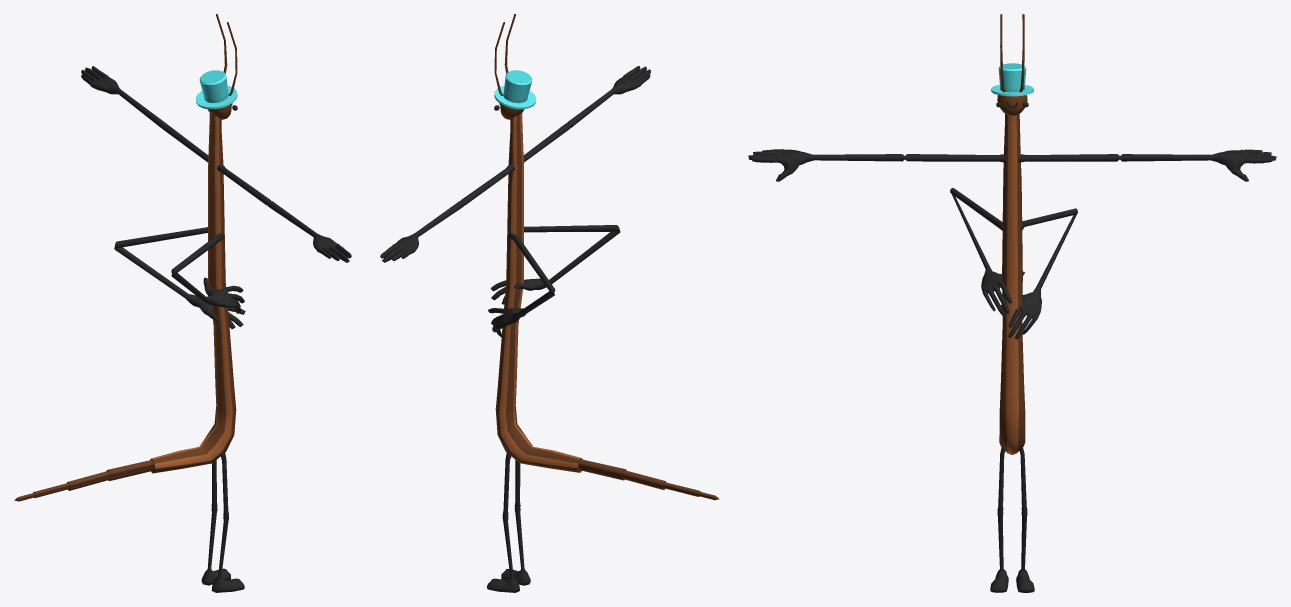
The model's file is Sr_Stickbug.glb.
3 renders of one model, left to right at view 1: azimuth 30°, elevation 25°; view 2: azimuth 150°, elevation 25°; view 3: azimuth 270°, elevation 25°, orthographic.
Parts seen in each view (by area): view 1: _100Avatars_180_SrStickbug; view 2: _100Avatars_180_SrStickbug; view 3: _100Avatars_180_SrStickbug.
Part boxes in pixels (bbox=[...]): _100Avatars_180_SrStickbug: bbox=[14, 14, 351, 592]; _100Avatars_180_SrStickbug: bbox=[380, 14, 719, 592]; _100Avatars_180_SrStickbug: bbox=[748, 14, 1276, 592].
Bounding box in the file's own units: 2.2 × 5.14 × 4.31.
1 material, 1 textured.
